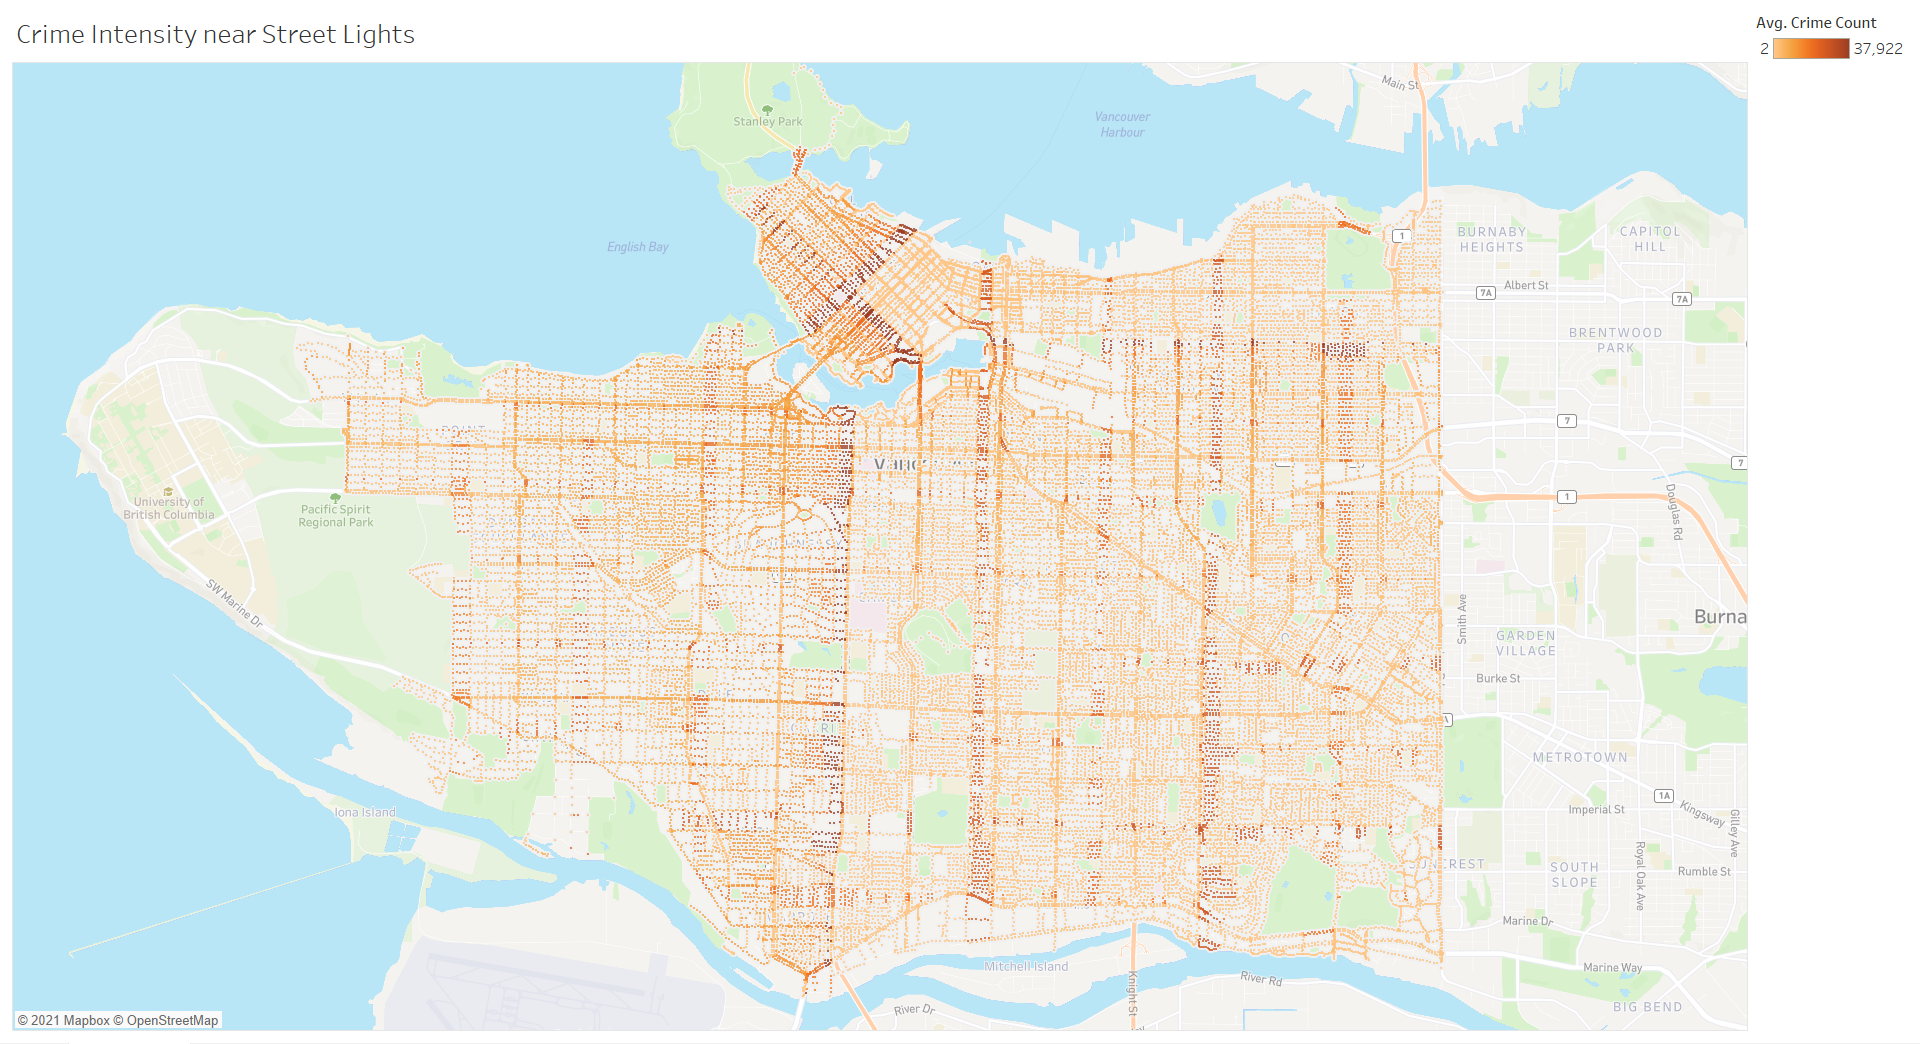

The dashboard page shown, as its layout file describes it:
{"tool":"tableau","page":{"name":"Dashboard 1","canvas":[1000,1000],"units":"permille","ordinal":0},"visuals":[{"type":"worksheet","title":"Sheet 1","mark":"Automatic","box":[4.8,9.3,893.8,981.4]},{"type":"legend","title":"Sheet 1","param":"[federated.1s4b5z10wqg3g819w9l4s04un8us].[none:TYPE:nk]","box":[898.6,9.3,96.6,278.7]}]}

Visuals, with their boxes on the dashboard's canvas, which has no fixed pixel size, in thousandths of its width and height (x1, y1, x2, y2). These are canvas units, not pixel positions in the 1924x1044 screenshot, which may show the page scaled, cropped or inside an application window:
"Sheet 1" worksheet: BBox(5, 9, 899, 991)
"Sheet 1" legend: BBox(899, 9, 995, 288)
